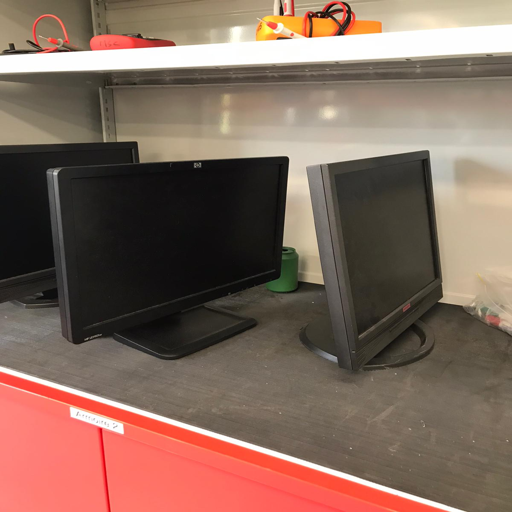Green_Can: (263, 244, 299, 293)
